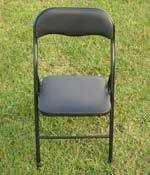obstacle: (33, 7, 114, 165)
